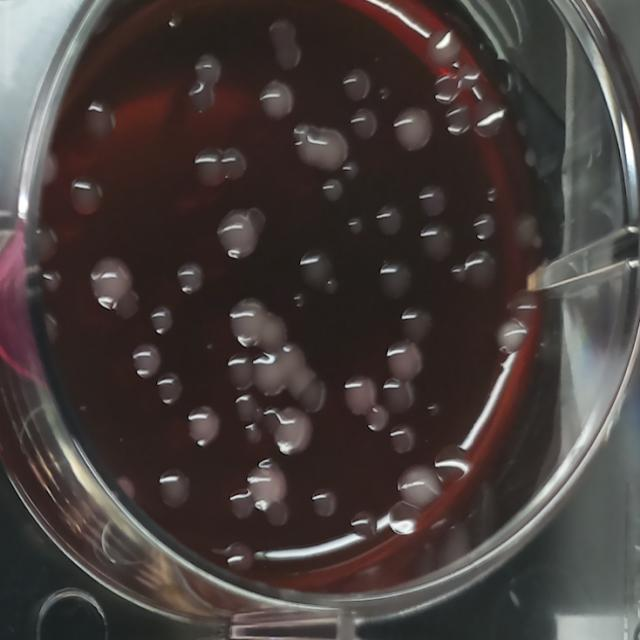Pseudoalteromonas: (375, 257, 415, 306)
Vibrio: (215, 208, 261, 264)
